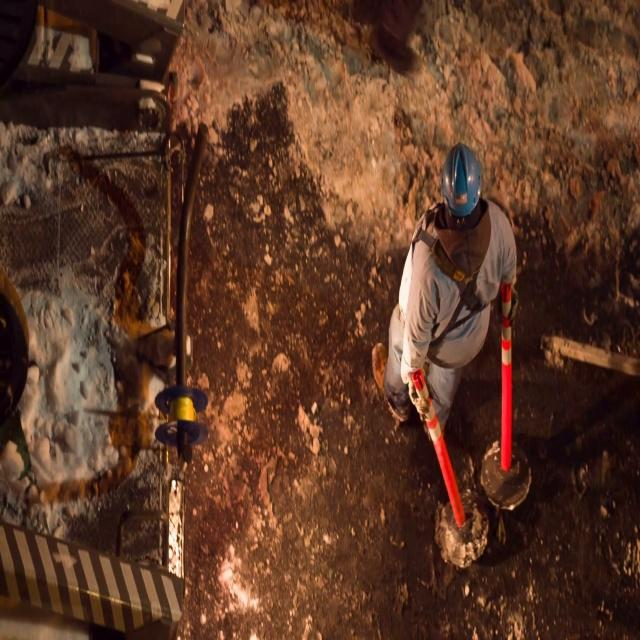helmet: (442, 191, 483, 301)
